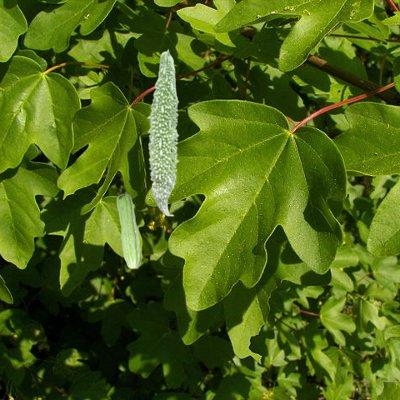ampalaya: (145, 48, 181, 218), (114, 193, 142, 269)
